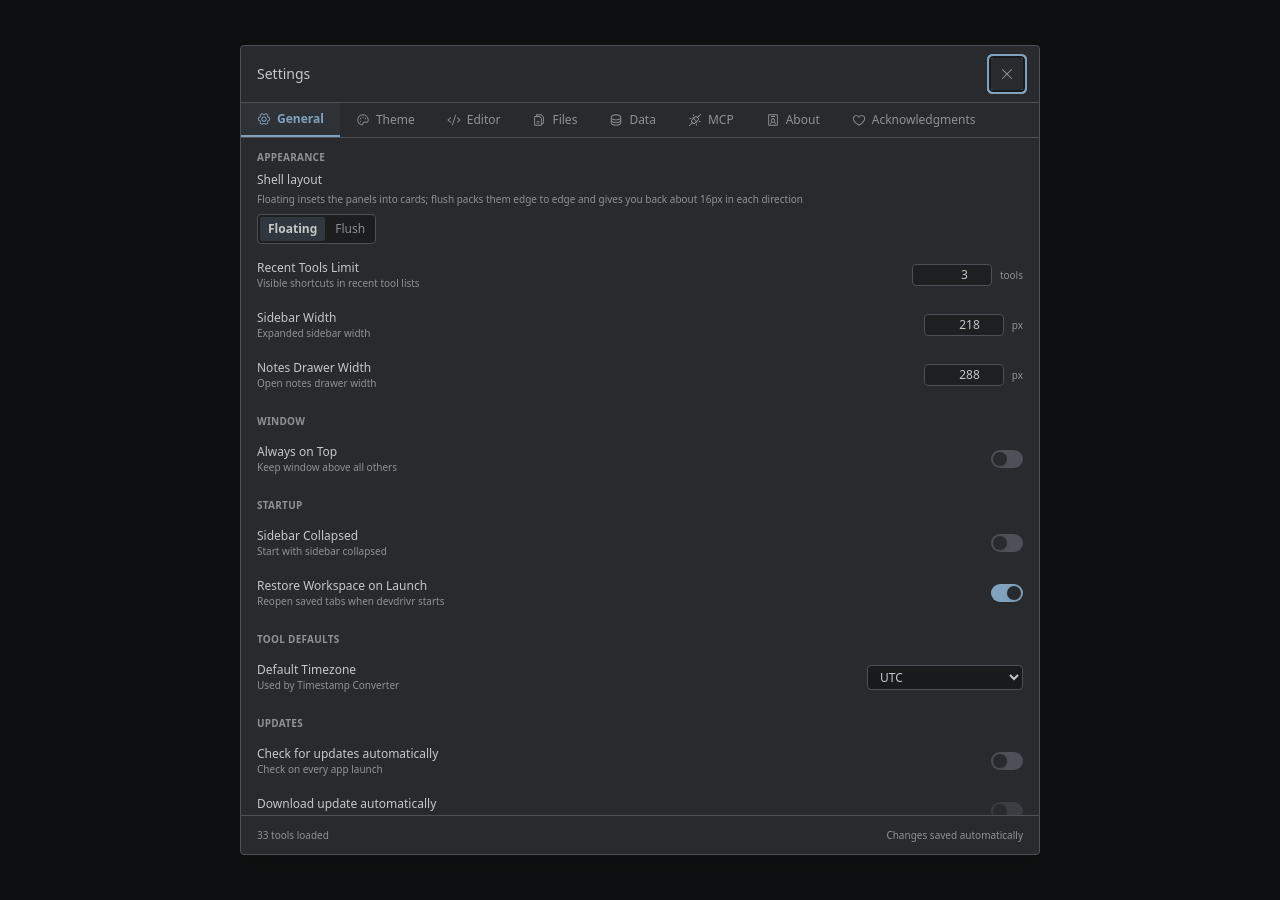
SettingsPanel › groups general settings and disables inert automatic downloads with a visible reason
expect the heading "Appearance" is shown: met, box left=257, top=150, right=325, bottom=164
expect the heading "Window" is shown: met, box left=257, top=414, right=305, bottom=428
Click the tab "Data" at [633, 120], box left=593, top=103, right=672, bottom=137
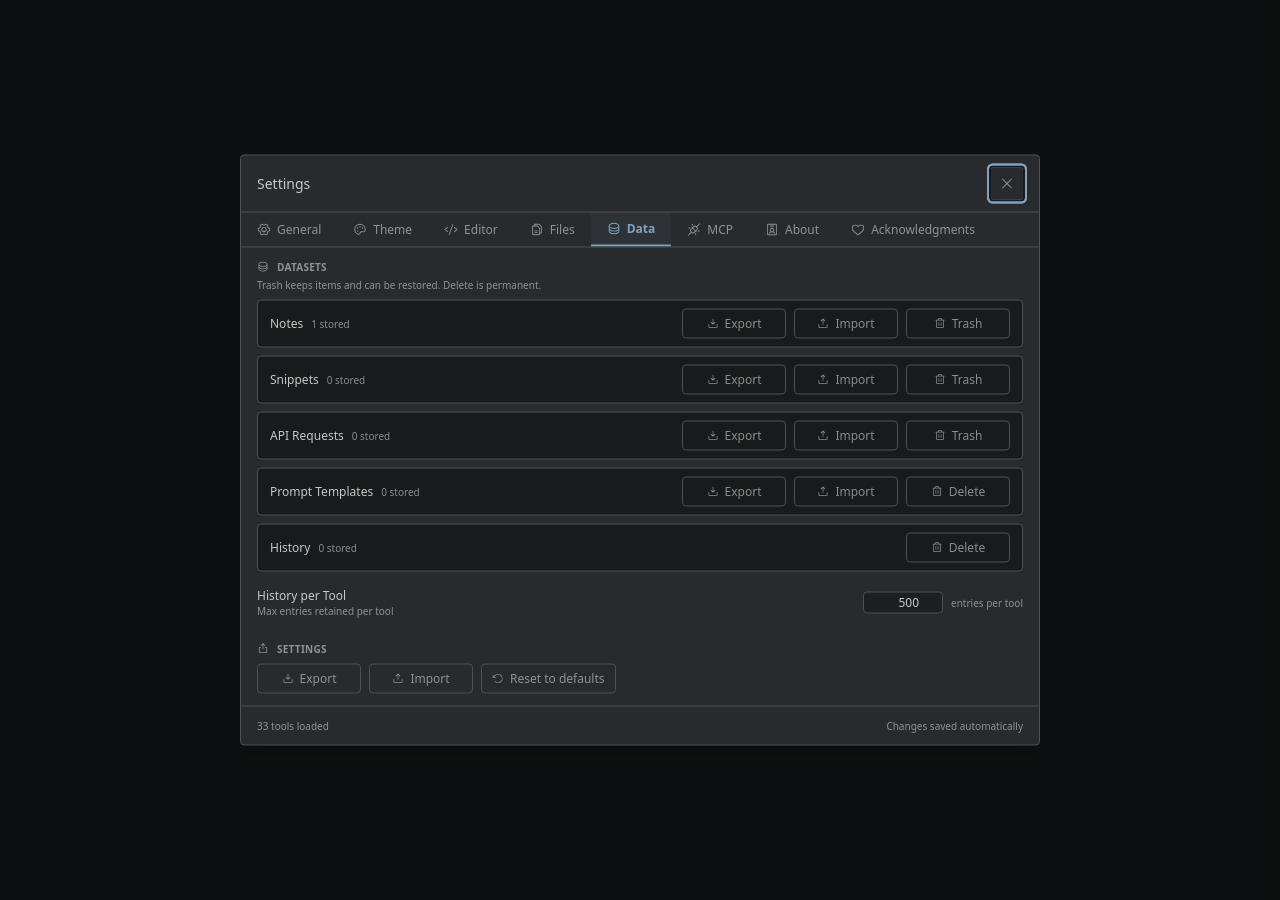
expect the heading "Datasets" is shown: met, box left=257, top=260, right=327, bottom=274
expect the text "Default Timezone" is gone: met
